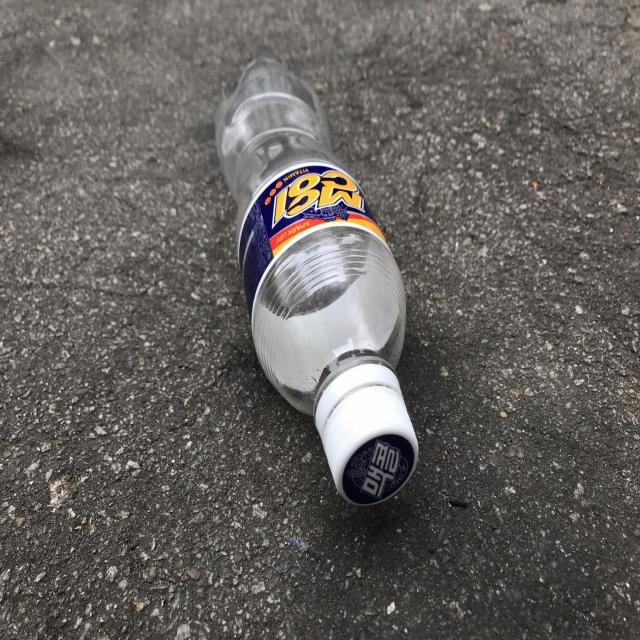plastic: (215, 57, 419, 506)
